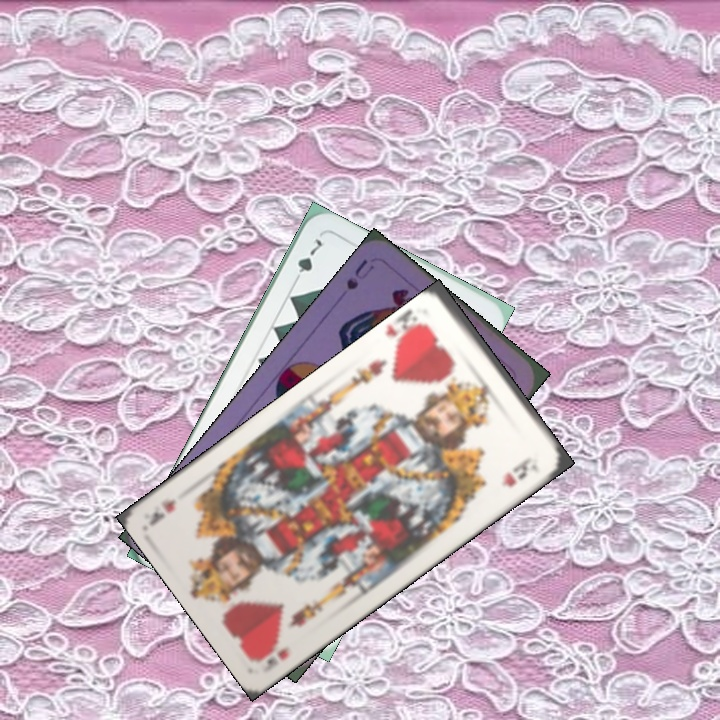G7: (288, 234, 325, 287)
HK: (388, 308, 432, 355), (260, 641, 292, 674)
SU: (342, 254, 378, 293)
